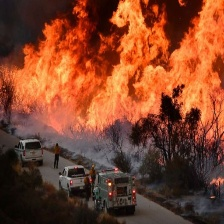fire: (4, 1, 224, 127)
smoke: (52, 124, 148, 164), (180, 194, 220, 213)
